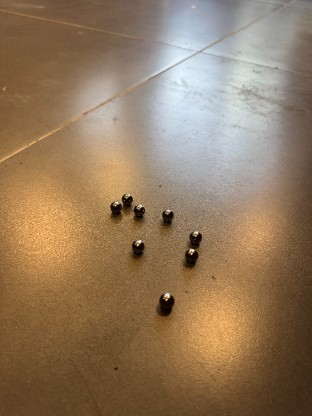ironball: (159, 292, 174, 309), (184, 248, 198, 262), (131, 239, 144, 253), (189, 231, 202, 243), (121, 193, 133, 205), (133, 204, 145, 216), (110, 201, 121, 213), (162, 209, 173, 221)
